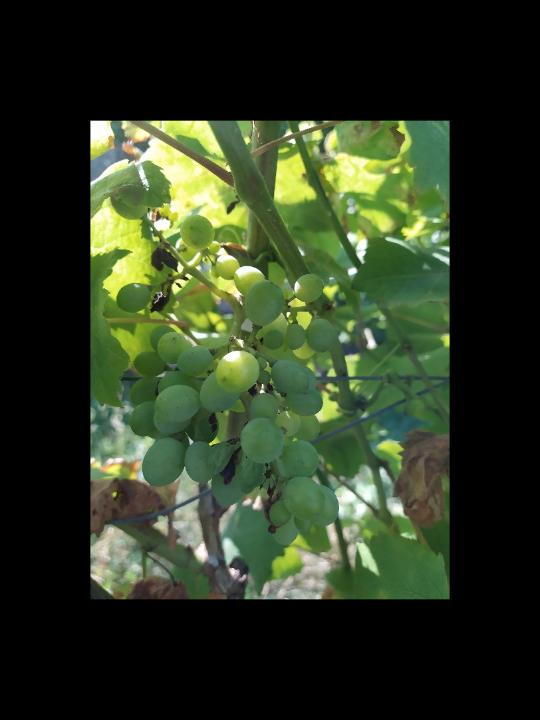grape: (109, 197, 343, 547)
